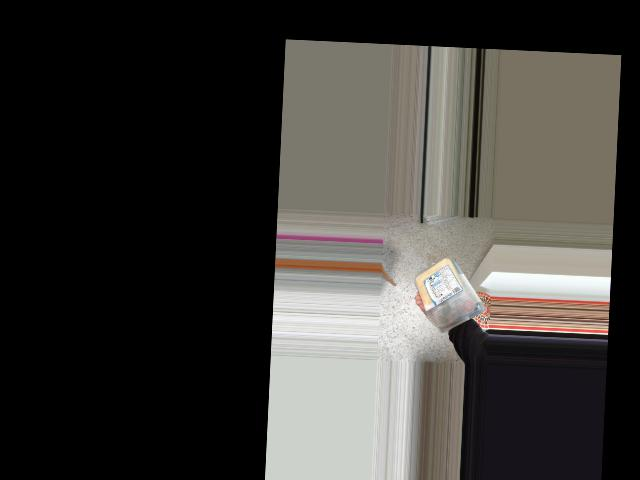cheese: (420, 255, 459, 322)
